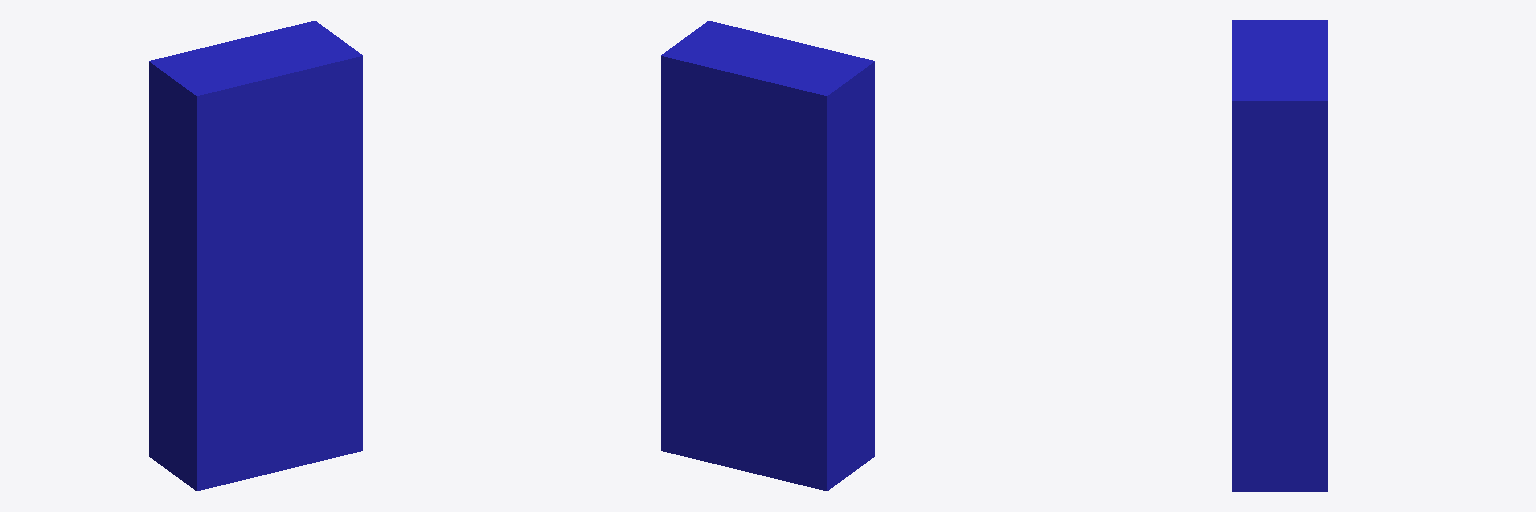
robot.urdf — cube:
<?xml version="1.0" ?>
<robot name="cube">

  <link name="cube">
    <visual>
      <geometry>
        <box size=".06 .03 .136"/>
      </geometry>
      <material name="blue">
        <color rgba="0.2 0.2 0.8 0"/>
      </material>
    </visual>
    <collision>
      <geometry>
        <box size=".06 .03 .136"/>
      </geometry>
    </collision>
    <inertial>
      <mass value="0.2"/>
      <inertia ixx="1" ixy="0" ixz="0" iyy="1.3" iyz="0" izz="0.5"/>
    </inertial>
  </link>
</robot>

--- What the picture shows (computed from the rendered views, not written in the file) ---
Views: 3 orthographic renders of the robot side by side, from view 1: azimuth 30°, elevation 25°; view 2: azimuth 150°, elevation 25°; view 3: azimuth 270°, elevation 25°.
Model cube with 1 links and 0 joints (none), rooted at cube, posed all joints at 0.
Links seen in each view (by area): view 1: cube; view 2: cube; view 3: cube.
Link boxes in pixels (x1,y1,x2,y2): cube: (149, 21, 362, 490); cube: (661, 21, 874, 490); cube: (1232, 20, 1327, 491).
Size in the robot's own frame: 0.06 by 0.03 by 0.136 metres.
Geometry: primitives only (box / cylinder / sphere), no mesh files.
